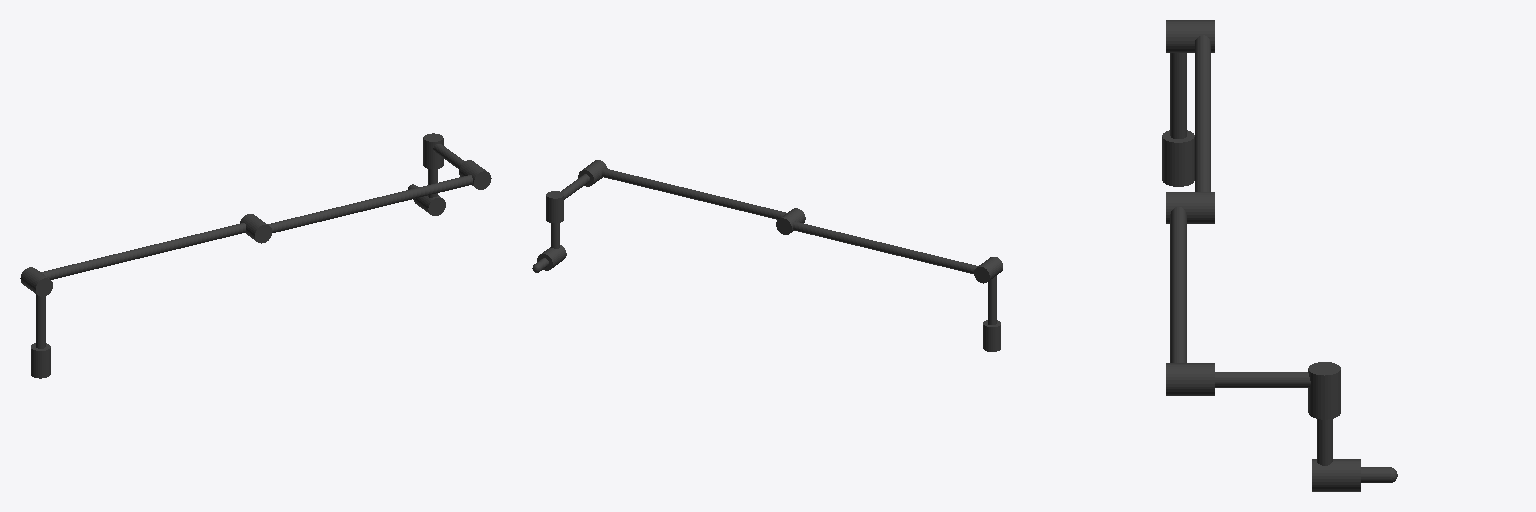
robot.urdf — robot:
<?xml version="1.0" ?>
<!-- =================================================================================== -->
<!-- |    This document was autogenerated by xacro from robot.urdf.xacro               | -->
<!-- |    EDITING THIS FILE BY HAND IS NOT RECOMMENDED                                 | -->
<!-- =================================================================================== -->
<robot name="robot">
  <!--
        A fictitious robot model for testing purposes.
        The kinematics is roughly inspired by the universal robots ur10.
        -->
  <!-- colors -->
  <material name="grey">
    <color rgba="0.3 0.3 0.3 1.0"/>
  </material>
  <link name="base_link">
    <visual name="joint">
      <origin rpy="0 0 0" xyz="0 0 0.015"/>
      <geometry>
        <cylinder length="0.03" radius="0.02"/>
      </geometry>
      <material name="grey"/>
    </visual>
  </link>
  <joint name="joint1" type="revolute">
    <parent link="base_link"/>
    <child link="link1"/>
    <origin rpy="0.0 0.0 0.0" xyz="0.0 0.0 0.045"/>
    <axis xyz="0 0 1"/>
    <limit effort="1.0" lower="-6.283185307179586" upper="6.283185307179586" velocity="10.0"/>
  </joint>
  <link name="link1">
    <visual name="joint1">
      <origin rpy="0 0 0" xyz="0 0 0"/>
      <geometry>
        <cylinder length="0.03" radius="0.02"/>
      </geometry>
      <material name="grey"/>
    </visual>
    <visual name="link">
      <origin rpy="0 0 0" xyz="0 0 0.075"/>
      <geometry>
        <cylinder length="0.15" radius="0.01"/>
      </geometry>
      <material name="grey"/>
    </visual>
    <visual name="joint2">
      <origin rpy="1.5707963267948966 0 0" xyz="0 0 0.15"/>
      <geometry>
        <cylinder length="0.03" radius="0.02"/>
      </geometry>
      <material name="grey"/>
    </visual>
  </link>
  <joint name="joint2" type="revolute">
    <parent link="link1"/>
    <child link="link2"/>
    <origin rpy="0.0 1.5707963267948966 0.0" xyz="0.0 0.03 0.15"/>
    <axis xyz="0 1 0"/>
    <limit effort="1.0" lower="-6.283185307179586" upper="6.283185307179586" velocity="10.0"/>
  </joint>
  <link name="link2">
    <visual name="joint2">
      <origin rpy="1.5707963267948966 0 0" xyz="0 0 0"/>
      <geometry>
        <cylinder length="0.03" radius="0.02"/>
      </geometry>
      <material name="grey"/>
    </visual>
    <visual name="link">
      <origin rpy="0 0 0" xyz="0 0 0.25"/>
      <geometry>
        <cylinder length="0.5" radius="0.01"/>
      </geometry>
      <material name="grey"/>
    </visual>
    <visual name="joint3">
      <origin rpy="1.5707963267948966 0 0" xyz="0 0 0.5"/>
      <geometry>
        <cylinder length="0.03" radius="0.02"/>
      </geometry>
      <material name="grey"/>
    </visual>
  </link>
  <joint name="joint3" type="revolute">
    <parent link="link2"/>
    <child link="link3"/>
    <origin rpy="0.0 0.0 0.0" xyz="0.0 -0.03 0.5"/>
    <axis xyz="0 1 0"/>
    <limit effort="1.0" lower="-3.141592653589793" upper="3.141592653589793" velocity="10.0"/>
  </joint>
  <link name="link3">
    <visual name="joint3">
      <origin rpy="1.5707963267948966 0 0" xyz="0 0 0"/>
      <geometry>
        <cylinder length="0.03" radius="0.02"/>
      </geometry>
      <material name="grey"/>
    </visual>
    <visual name="link">
      <origin rpy="0 0 0" xyz="0 0 0.25"/>
      <geometry>
        <cylinder length="0.5" radius="0.01"/>
      </geometry>
      <material name="grey"/>
    </visual>
    <visual name="joint4">
      <origin rpy="1.5707963267948966 0 0" xyz="0 0 0.5"/>
      <geometry>
        <cylinder length="0.03" radius="0.02"/>
      </geometry>
      <material name="grey"/>
    </visual>
  </link>
  <joint name="joint4" type="revolute">
    <parent link="link3"/>
    <child link="link4"/>
    <origin rpy="0.0 1.5707963267948966 0.0" xyz="0.0 0.03 0.5"/>
    <axis xyz="0 1 0"/>
    <limit effort="1.0" lower="-6.283185307179586" upper="6.283185307179586" velocity="10.0"/>
  </joint>
  <link name="link4">
    <visual name="joint4">
      <origin rpy="1.5707963267948966 0 0" xyz="0 0 0"/>
      <geometry>
        <cylinder length="0.03" radius="0.02"/>
      </geometry>
      <material name="grey"/>
    </visual>
    <visual name="link">
      <origin rpy="1.5707963267948966 0 0" xyz="0 0.075 0"/>
      <geometry>
        <cylinder length="0.15" radius="0.01"/>
      </geometry>
      <material name="grey"/>
    </visual>
    <visual name="joint5">
      <origin rpy="0 0 0" xyz="0 0.15 0"/>
      <geometry>
        <cylinder length="0.03" radius="0.02"/>
      </geometry>
      <material name="grey"/>
    </visual>
  </link>
  <joint name="joint5" type="revolute">
    <parent link="link4"/>
    <child link="link5"/>
    <origin rpy="0.0 0.0 0.0" xyz="0.0 0.15 0.03"/>
    <axis xyz="0 0 1"/>
    <limit effort="1.0" lower="-6.283185307179586" upper="6.283185307179586" velocity="10.0"/>
  </joint>
  <link name="link5">
    <visual name="joint5">
      <origin rpy="0 0 0" xyz="0 0 0"/>
      <geometry>
        <cylinder length="0.03" radius="0.02"/>
      </geometry>
      <material name="grey"/>
    </visual>
    <visual name="link">
      <origin rpy="0 0 0" xyz="0 0 0.05"/>
      <geometry>
        <cylinder length="0.1" radius="0.01"/>
      </geometry>
      <material name="grey"/>
    </visual>
    <visual name="joint6">
      <origin rpy="1.5707963267948966 0 0" xyz="0 0 0.1"/>
      <geometry>
        <cylinder length="0.03" radius="0.02"/>
      </geometry>
      <material name="grey"/>
    </visual>
  </link>
  <joint name="joint6" type="revolute">
    <parent link="link5"/>
    <child link="link6"/>
    <origin rpy="0.0 0.0 0.0" xyz="0.0 0.03 0.1"/>
    <axis xyz="0 1 0"/>
    <limit effort="1.0" lower="-6.283185307179586" upper="6.283185307179586" velocity="10.0"/>
  </joint>
  <link name="link6">
    <visual name="joint6">
      <origin rpy="1.5707963267948966 0 0" xyz="0 0 0"/>
      <geometry>
        <cylinder length="0.03" radius="0.02"/>
      </geometry>
      <material name="grey"/>
    </visual>
    <visual name="link">
      <origin rpy="-1.5707963267948966 0 0" xyz="0 0.025 0"/>
      <geometry>
        <cylinder length="0.05" radius="0.01"/>
      </geometry>
      <material name="grey"/>
    </visual>
  </link>
  <joint name="tool0_joint" type="fixed">
    <origin rpy="0 0 0" xyz="0 0 0.025"/>
    <parent link="sensor_link"/>
    <child link="tool0"/>
  </joint>
  <link name="tool0">
    <visual>
      <origin rpy="0 0 0" xyz="0 0 0"/>
      <geometry>
        <sphere radius="0.01"/>
      </geometry>
      <material name="grey"/>
    </visual>
  </link>
  <!-- Attach a sensor link -->
  <joint name="sensor_link_joint" type="fixed">
    <origin rpy="-1.5707963267948966 0 0" xyz="0 0.025 0"/>
    <parent link="link6"/>
    <child link="sensor_link"/>
  </joint>
  <link name="sensor_link"/>
  <!-- Connect to world -->
  <link name="world"/>
  <joint name="world_joint" type="fixed">
    <parent link="world"/>
    <child link="base_link"/>
    <origin rpy="0.0 0.0 0.0" xyz="0.0 0.0 0.0"/>
  </joint>
</robot>

--- Render facts (derived) ---
3 views of the same robot in one strip: view 1: azimuth 30°, elevation 25°; view 2: azimuth 150°, elevation 25°; view 3: azimuth 270°, elevation 25° (orthographic).
Model robot with 10 links and 9 joints (6 revolute, 3 fixed), rooted at world, posed every joint at zero.
Visible links, largest first — view 1: link3, link2, link1, link5, link4; view 2: link2, link3, link4, link1, link5; view 3: link3, link2, link4, link1, link5, link6, base_link.
Boxes of the visible links, left/top/right/bottom form: link3: left=247, top=166, right=491, bottom=243; link2: left=20, top=214, right=260, bottom=288; link1: left=28, top=273, right=52, bottom=364; link5: left=421, top=152, right=445, bottom=215; link4: left=423, top=133, right=478, bottom=176; link2: left=776, top=213, right=996, bottom=283; link3: left=588, top=160, right=805, bottom=222; link4: left=546, top=165, right=600, bottom=210; link1: left=983, top=257, right=1002, bottom=339; link5: left=546, top=208, right=566, bottom=262; link3: left=1166, top=192, right=1190, bottom=395; link2: left=1191, top=20, right=1214, bottom=223; link4: left=1191, top=362, right=1340, bottom=397; link1: left=1162, top=20, right=1194, bottom=164; link5: left=1308, top=391, right=1340, bottom=491; link6: left=1337, top=459, right=1389, bottom=491; base_link: left=1162, top=159, right=1194, bottom=186.
Size in the robot's own frame: 1.04 by 0.29 by 0.215 metres.
Geometry: primitives only (box / cylinder / sphere), no mesh files.